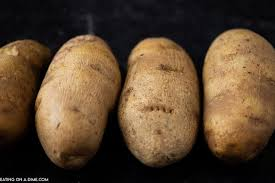potato: (123, 30, 198, 171), (208, 23, 275, 168), (46, 30, 109, 167)
